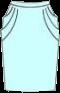Hemline: (4, 88, 56, 91)
Waistline: (9, 4, 49, 7), (11, 0, 48, 3)
